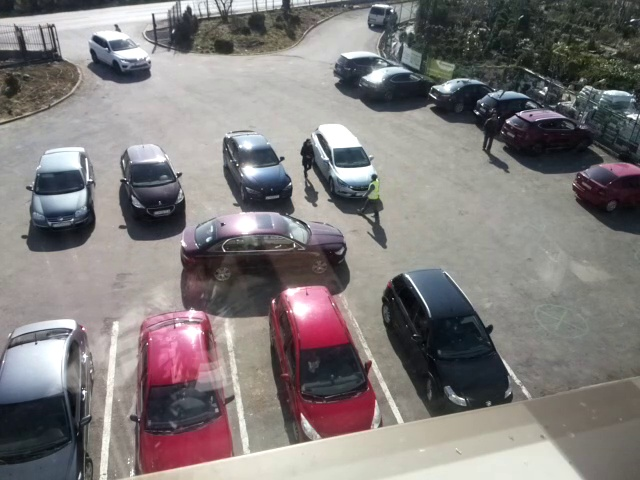car: (379, 270, 514, 415), (270, 284, 383, 443), (133, 311, 234, 477), (1, 318, 93, 480), (180, 212, 347, 278), (27, 146, 95, 228), (222, 129, 292, 203), (310, 123, 377, 199), (121, 144, 186, 222), (501, 109, 597, 154), (573, 162, 640, 212), (361, 63, 440, 100), (87, 31, 152, 75), (474, 91, 554, 124), (431, 76, 509, 109), (331, 49, 404, 82), (366, 4, 400, 29)
